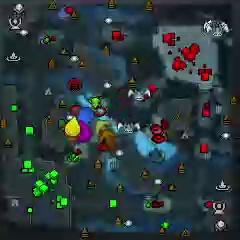p1: (77, 107, 95, 124)
p3: (77, 120, 92, 143)
p4: (64, 116, 81, 136)
x2: (96, 119, 112, 136)
x5: (100, 130, 116, 148)
